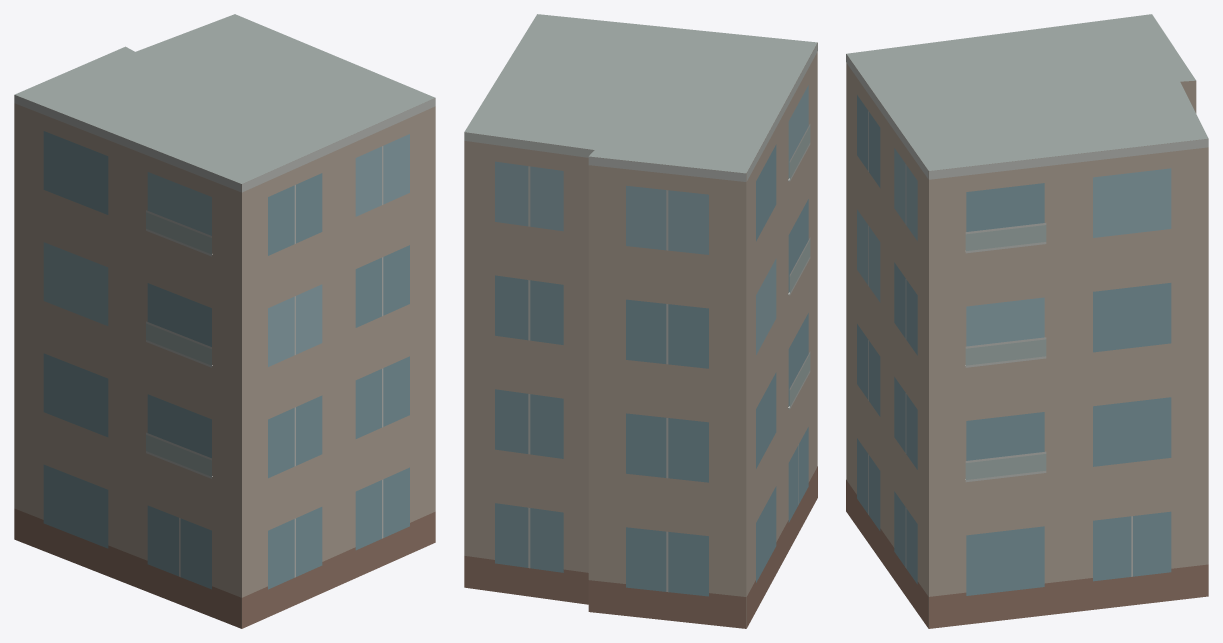
File: survey-upis-32462319.glb
3 renders of one model, left to right at view 1: azimuth 30°, elevation 25°; view 2: azimuth 150°, elevation 25°; view 3: azimuth 270°, elevation 25°, orthographic. The views are drawn at different scales.
Visible parts, largest first — view 1: survey-upis-32462319.tmp; view 2: survey-upis-32462319.tmp; view 3: survey-upis-32462319.tmp.
Boxes of the visible parts, <box> form: survey-upis-32462319.tmp: <box>14,14,435,628</box>; survey-upis-32462319.tmp: <box>464,14,817,628</box>; survey-upis-32462319.tmp: <box>846,14,1208,628</box>.
Size of the model in its own units: 9.43 by 12.8 by 9.19.
